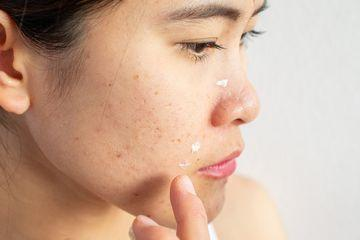Dry-Skin: (97, 78, 158, 174), (165, 134, 204, 179), (212, 65, 249, 106)
